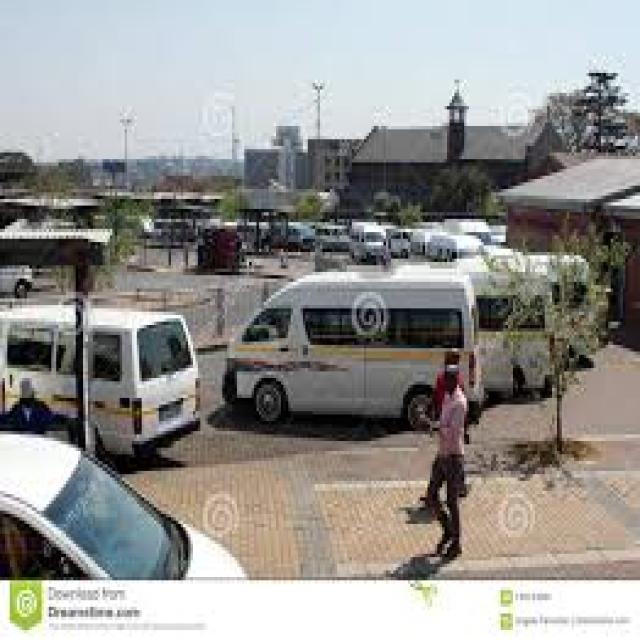MiniBus taxi: (222, 272, 491, 424), (2, 295, 203, 471)
Pedestrians: (440, 365, 469, 560)
